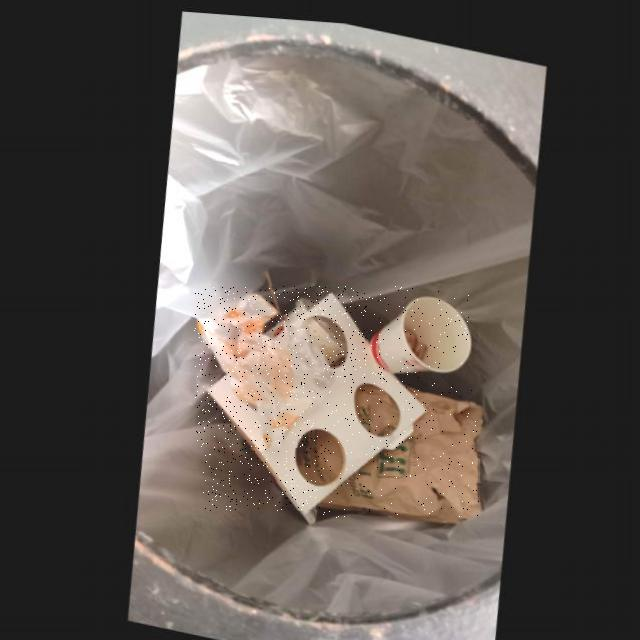paper: (203, 286, 421, 511), (317, 383, 479, 518), (194, 290, 318, 448), (367, 291, 469, 368), (285, 323, 329, 381)
